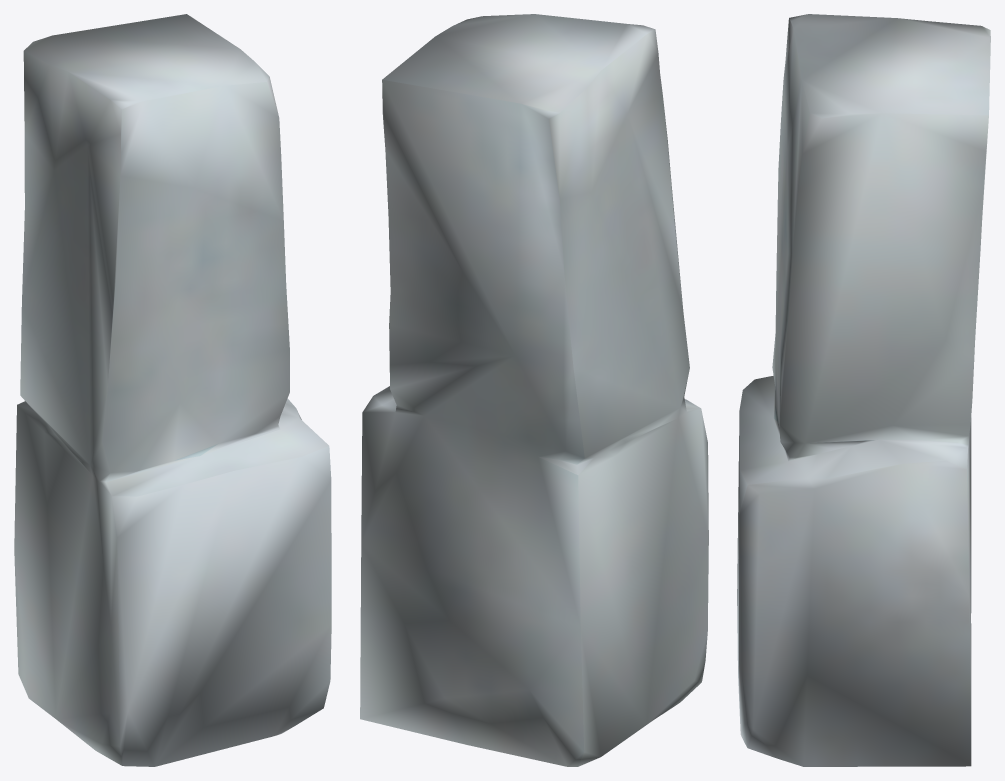
Rendered from P_CubicCliffPiece10.obj.
3 views of the same model, side by side, from view 1: azimuth 30°, elevation 25°; view 2: azimuth 150°, elevation 25°; view 3: azimuth 270°, elevation 25° (orthographic). The views are drawn at different scales.
Size of the model in its own units: 7.44 by 20.44 by 7.16.
